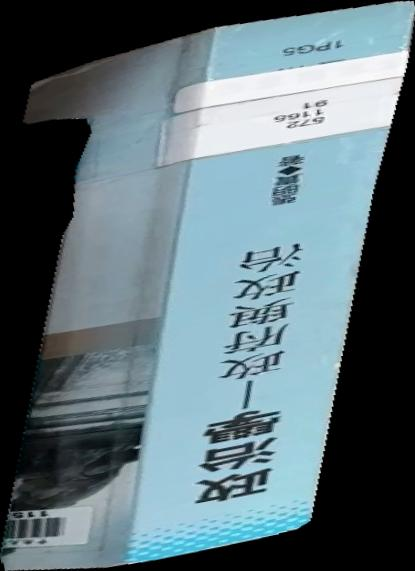reverse: (1, 1, 415, 571)
